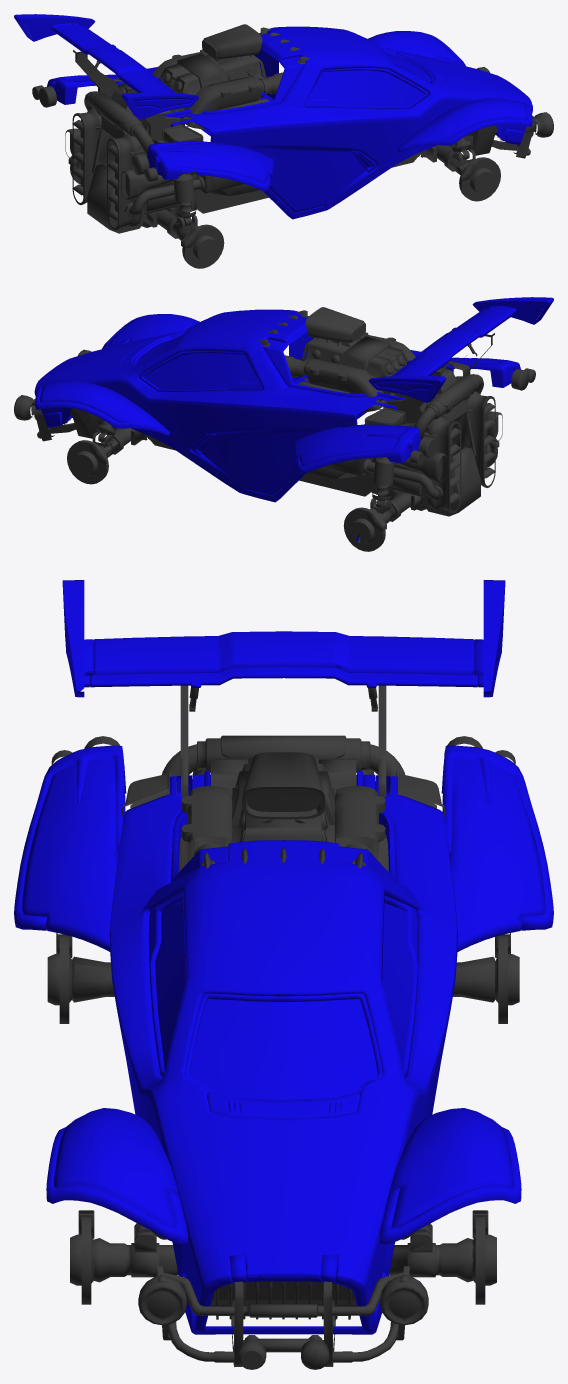
The model's file is Octane.glb.
3 views of the same model, one above another, from view 1: azimuth 30°, elevation 25°; view 2: azimuth 150°, elevation 25°; view 3: azimuth 270°, elevation 25° (orthographic). The views are drawn at different scales.
Parts seen in each view (by area): view 1: Octane; view 2: Octane; view 3: Octane.
Boxes of the visible parts, x1,y1,x2,y2 form: Octane: (14, 14, 553, 268); Octane: (14, 297, 553, 551); Octane: (14, 580, 553, 1369).
Size of the model in its own units: 14.95 by 6.13 by 7.91.
